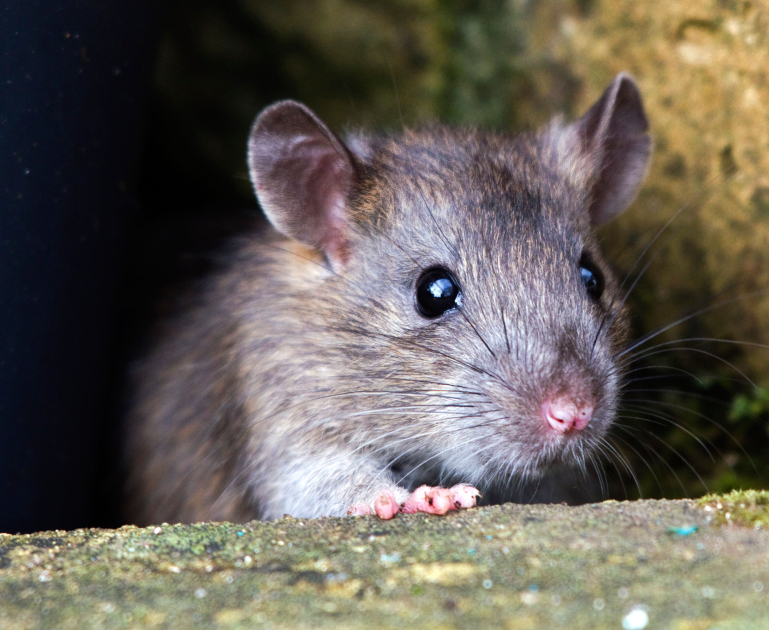rat: (103, 66, 669, 535)
